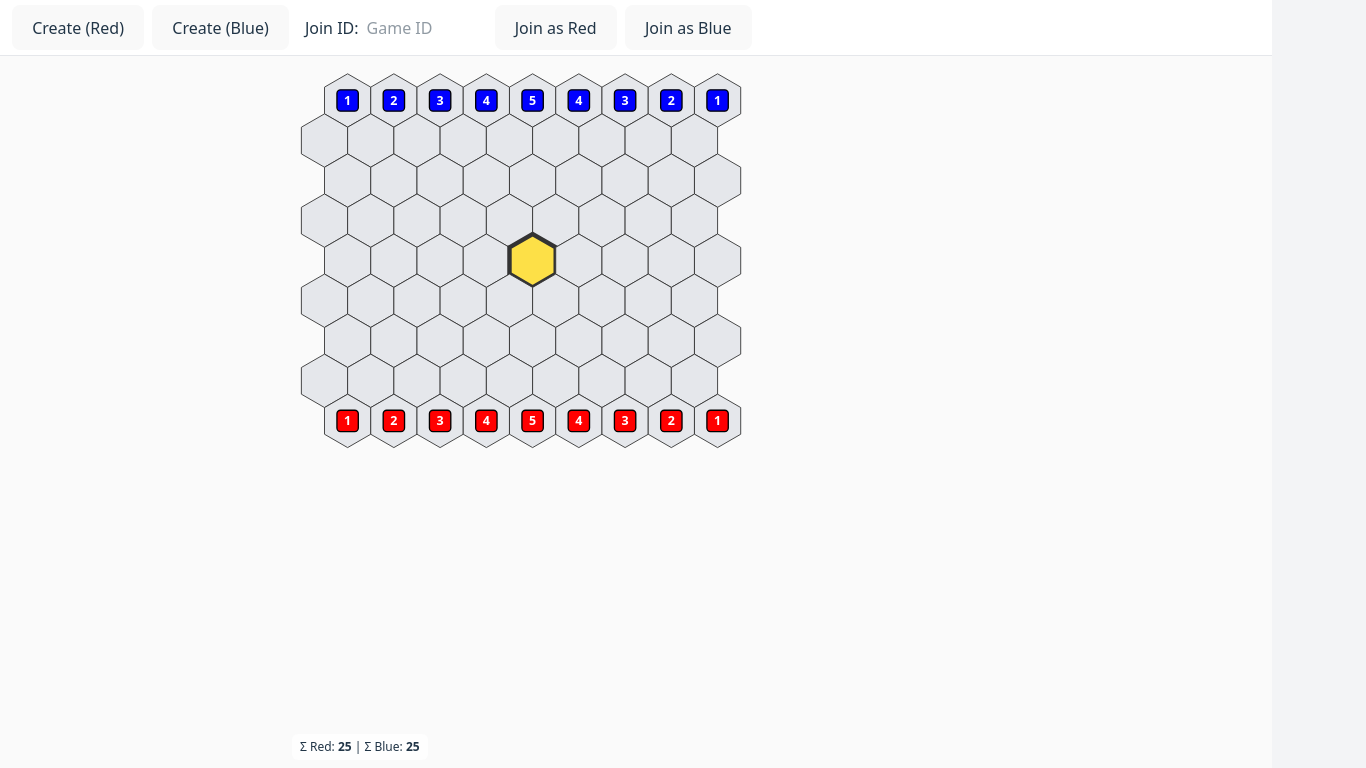
Scenario: Absorb panel visibility › атакер (slot !== defender) НЕ бачить панель
The image size is (1366, 768).
Click the button "Create (Red)" at (78, 28), box top-left (12, 5), bottom-right (144, 50)
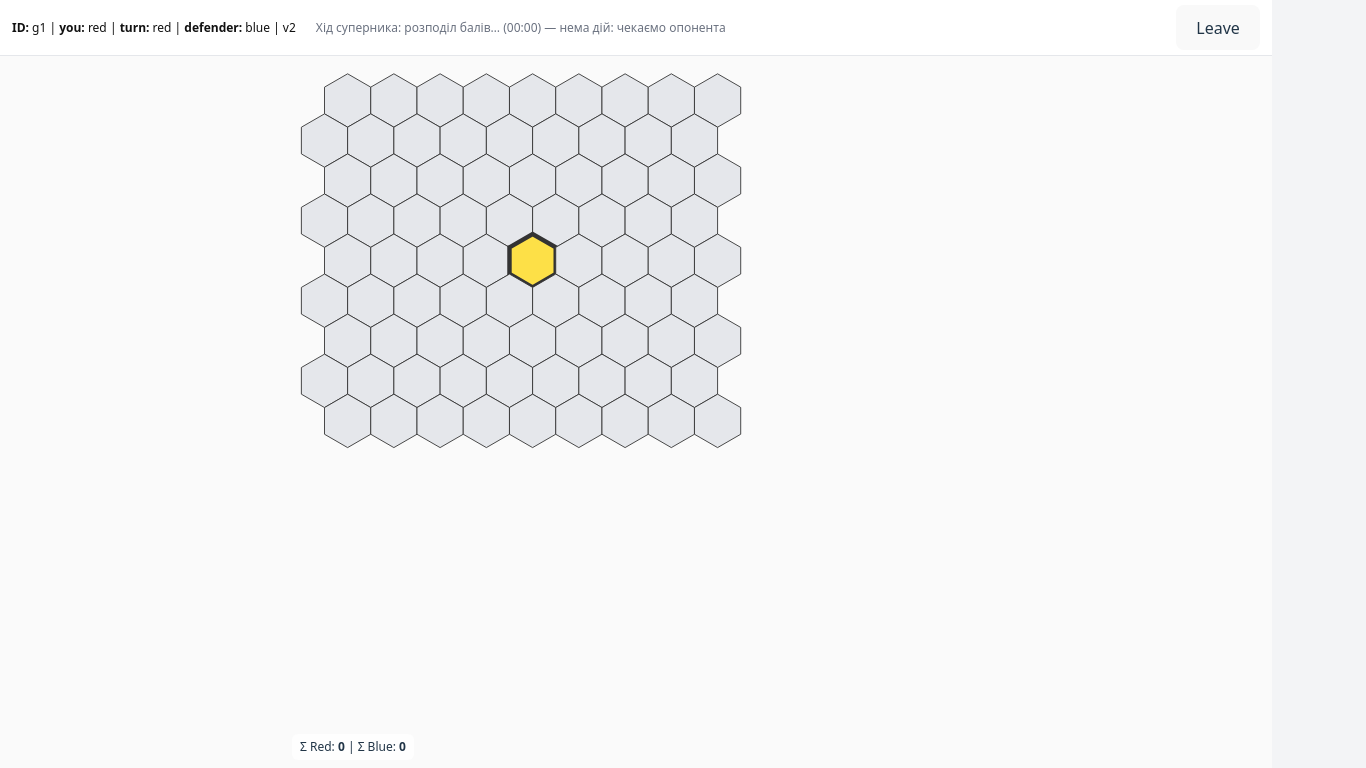
Now the text named "wait-timer" reads "(00:00)", box top-left (503, 18), bottom-right (541, 36)
Now the text "чекаємо опонента" is shown, box top-left (541, 18), bottom-right (726, 36)
Now the element named "status-wait-absorb" is shown, box top-left (316, 18), bottom-right (726, 36)
